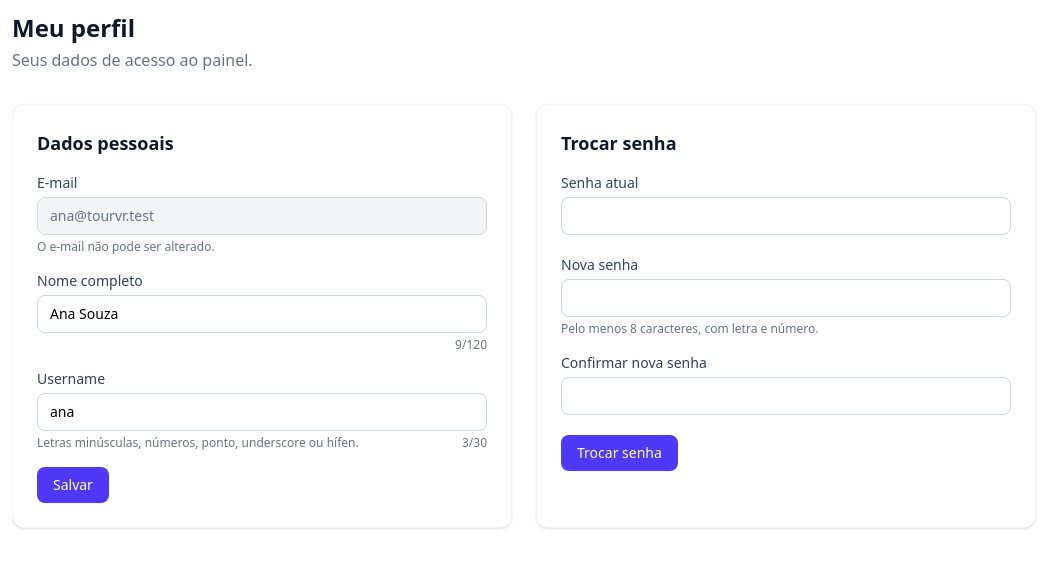
ProfilePage › erro ao salvar mostra o detail do backend
This screenshot has width=1053, height=582.
Click the button "Salvar" at (73, 485), box [37, 467, 109, 503]
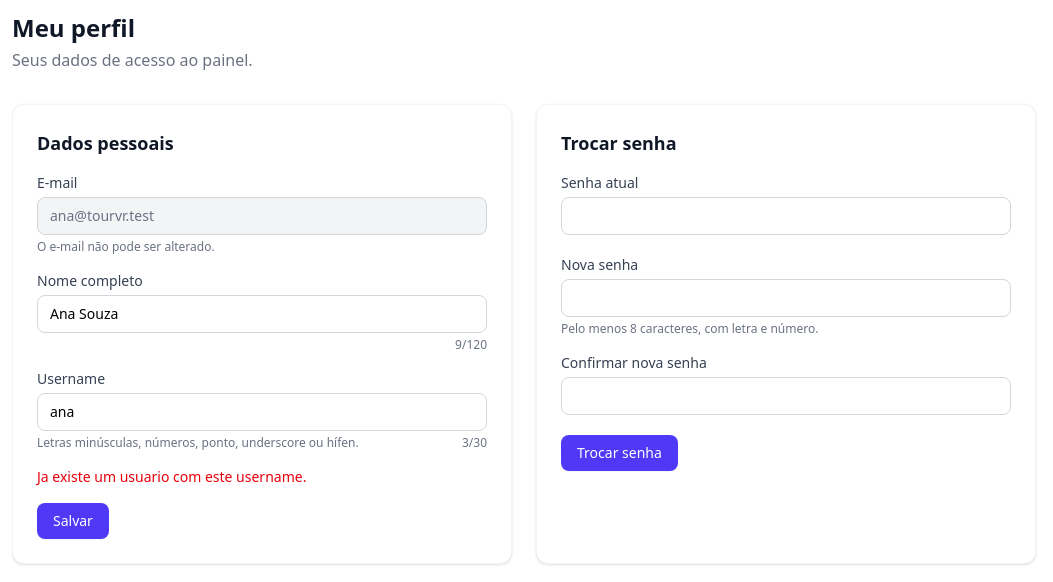
Expected: the message reads "Ja existe um usuario com este username.", [37, 467, 306, 486]
